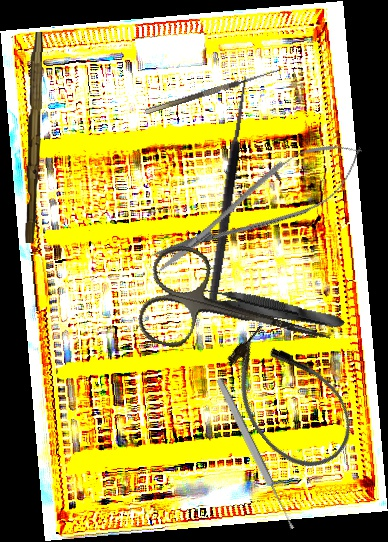Cannula: (206, 312, 370, 487)
Hook Surgical: (195, 73, 251, 307), (142, 60, 283, 115)
Iris Scissors: (133, 239, 344, 389)
Micro Scissor: (140, 122, 376, 291)
Scalpel Handle: (24, 31, 43, 244)
Surgical Spoon: (214, 376, 297, 532)
Tissue Forceps: (195, 282, 347, 335)
